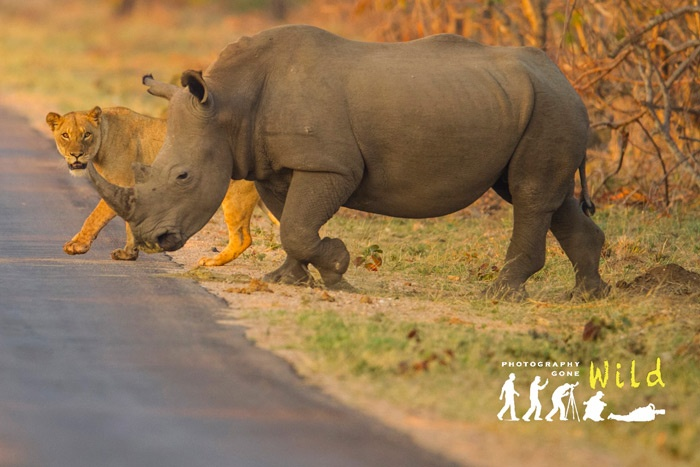rhino: (85, 21, 613, 299)
